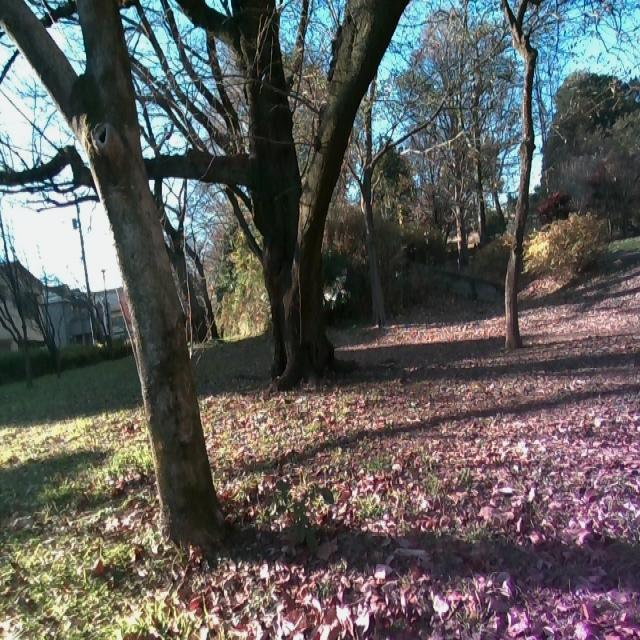bush: (519, 208, 623, 300)
tree: (0, 0, 438, 376), (0, 0, 228, 555), (326, 0, 442, 331), (495, 0, 545, 352), (0, 205, 40, 386), (54, 245, 116, 358), (25, 216, 61, 370)
